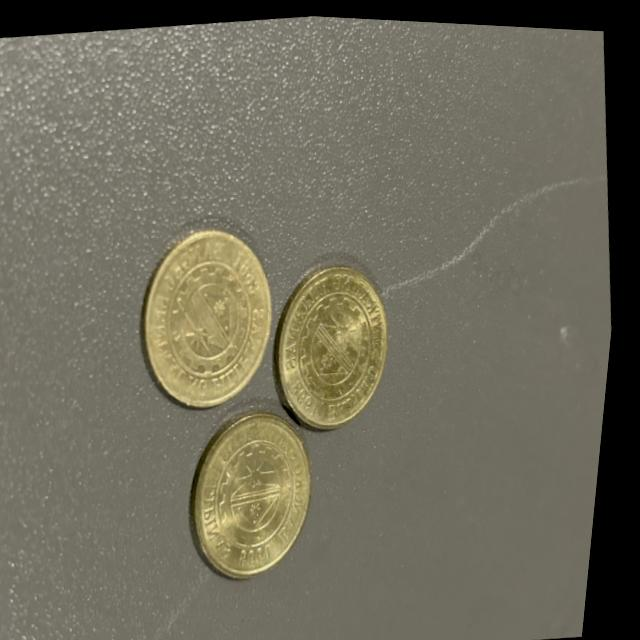25Cent_Old_Back: (196, 420, 331, 572), (150, 242, 280, 389), (286, 280, 408, 424)
